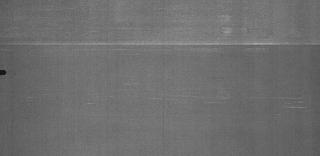punching hole: (0, 64, 8, 82)
welding line: (1, 38, 319, 52)
